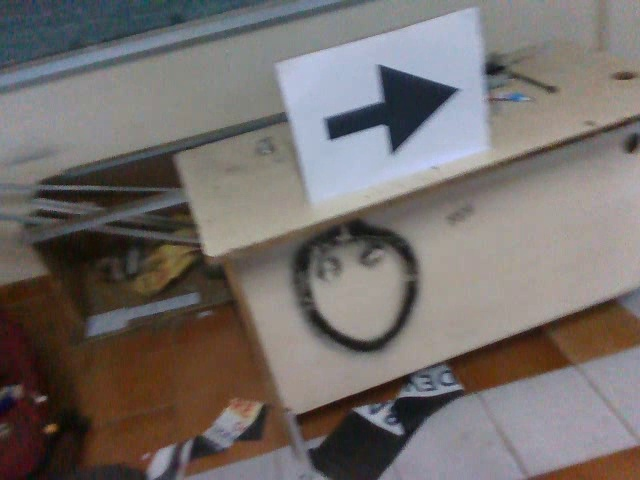Right: (309, 58, 461, 162)
